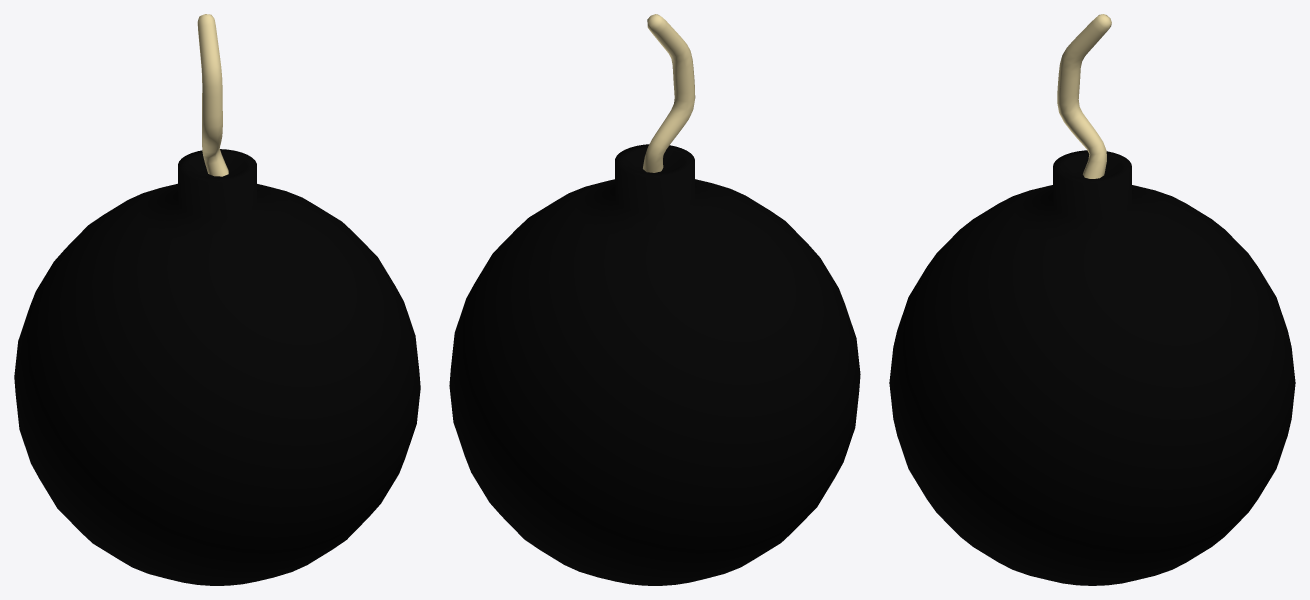
Rendered from Bomb_asset.fbx.
3 views of the same model, side by side, from view 1: azimuth 30°, elevation 25°; view 2: azimuth 150°, elevation 25°; view 3: azimuth 270°, elevation 25° (orthographic).
Parts seen in each view (by area): view 1: Sphere, Plane; view 2: Sphere, Plane; view 3: Sphere, Plane.
Part boxes in pixels (left/top/right/bottom): Sphere: left=14, top=149, right=420, bottom=585; Plane: left=197, top=14, right=228, bottom=176; Sphere: left=449, top=144, right=860, bottom=585; Plane: left=643, top=14, right=695, bottom=172; Sphere: left=889, top=150, right=1295, bottom=585; Plane: left=1057, top=14, right=1111, bottom=178.
Bounding box in the file's own units: 200 × 298 × 200.
